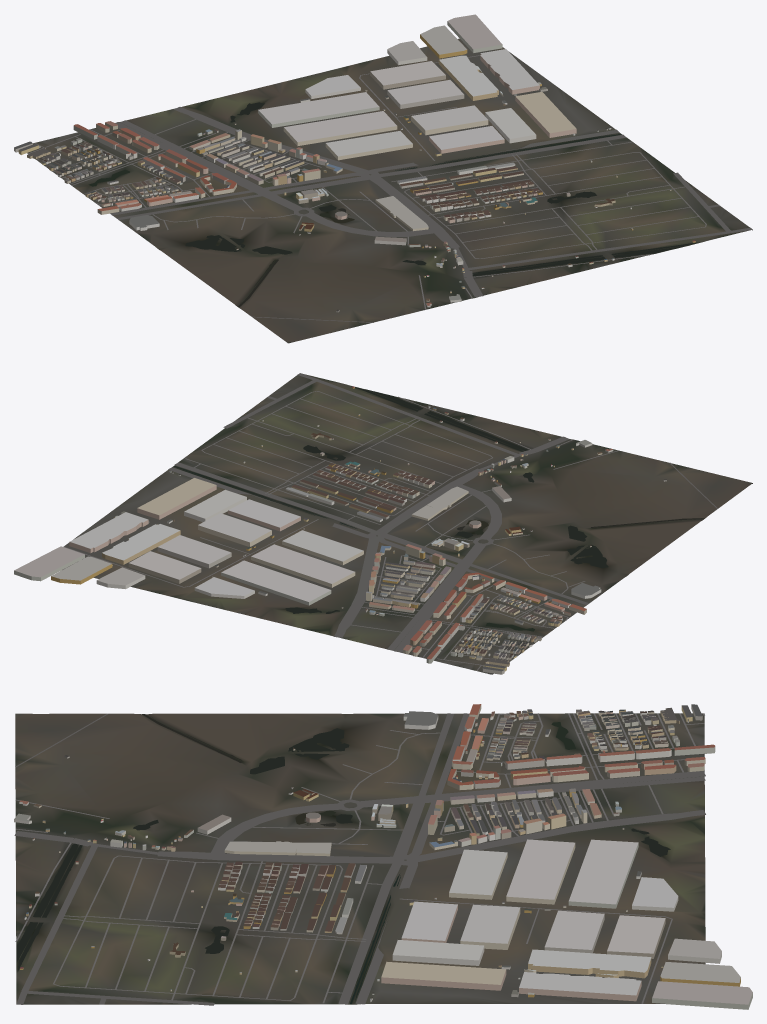
The picture shows the model from 3 angles, top to bottom: view 1: azimuth 30°, elevation 25°; view 2: azimuth 150°, elevation 25°; view 3: azimuth 270°, elevation 25°; orthographic projection. The views are drawn at different scales.
Parts seen in each view (by area): view 1: ground, buildings, roads, water; view 2: ground, buildings, roads, water; view 3: ground, buildings, roads, water.
Boxes of the visible parts, bbox=[...] form: ground: bbox=[27, 38, 752, 343]; buildings: bbox=[14, 14, 695, 312]; roads: bbox=[28, 55, 752, 322]; water: bbox=[88, 102, 699, 306]; ground: bbox=[62, 374, 752, 674]; buildings: bbox=[14, 386, 666, 674]; roads: bbox=[63, 373, 717, 674]; water: bbox=[174, 386, 703, 631]; ground: bbox=[15, 713, 705, 1004]; buildings: bbox=[14, 704, 752, 1009]; roads: bbox=[14, 713, 705, 1005]; water: bbox=[16, 714, 670, 1003].
Size of the model in its own units: 1451 by 29.45 by 1503.
